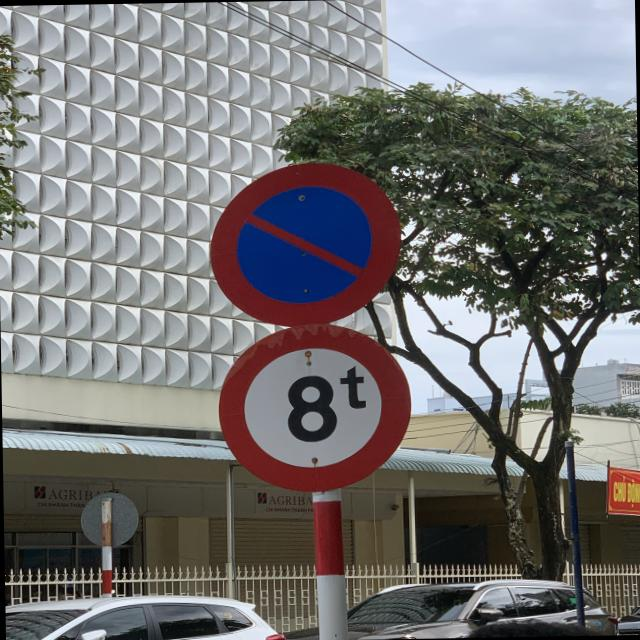Cam_Dau_Xe: (209, 160, 406, 320)
